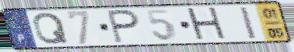5: (145, 9, 179, 43)
7: (66, 10, 93, 46)
H: (185, 6, 230, 43)
I: (238, 6, 260, 41)
P: (106, 8, 142, 45)
Q: (31, 12, 71, 46)
